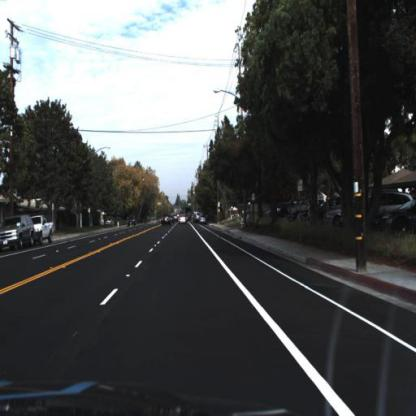car: (1, 214, 36, 251), (322, 194, 350, 232), (29, 215, 57, 245), (33, 215, 56, 248), (160, 215, 172, 231)
